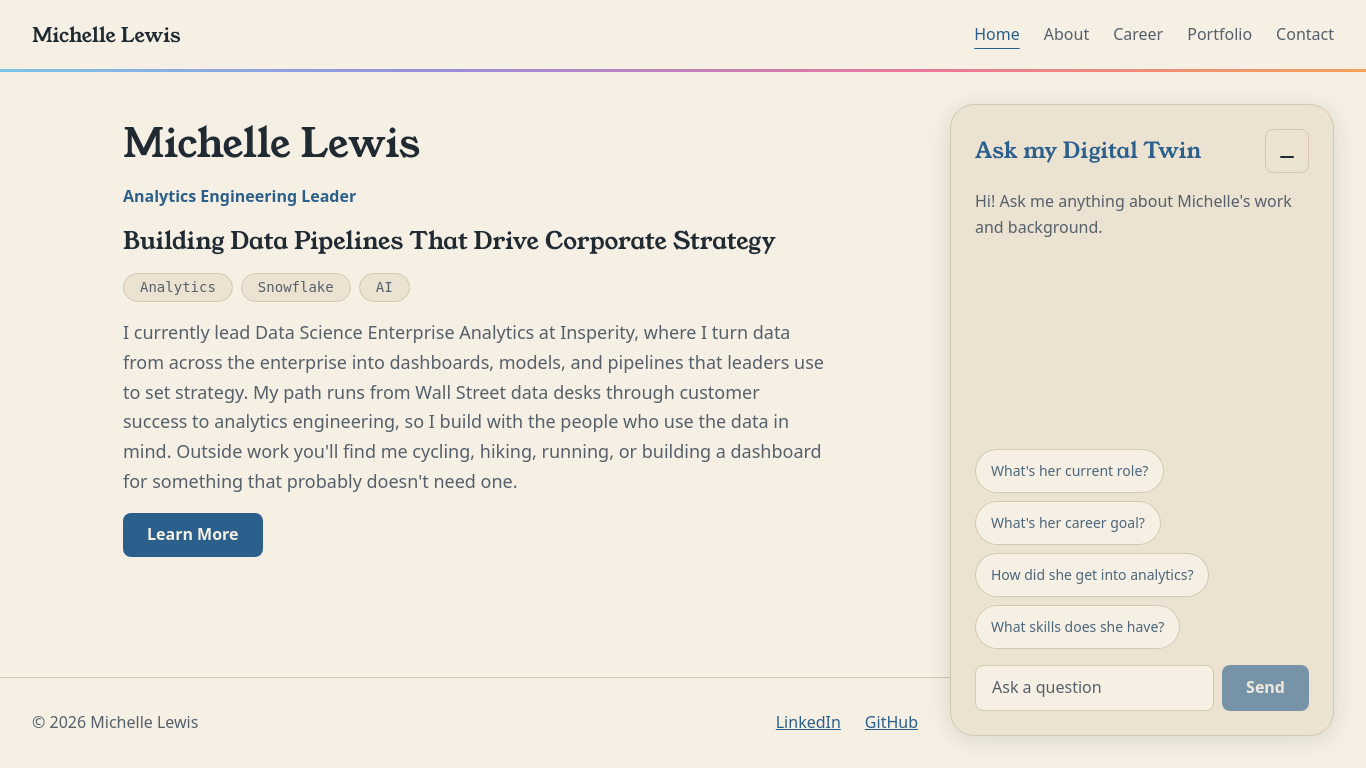
a failed click keeps text the visitor typed instead of replacing it
The image size is (1366, 768).
Type "abc" into the field named "Your question".
click(1095, 688); type("abc")  # box [975, 665, 1214, 711]
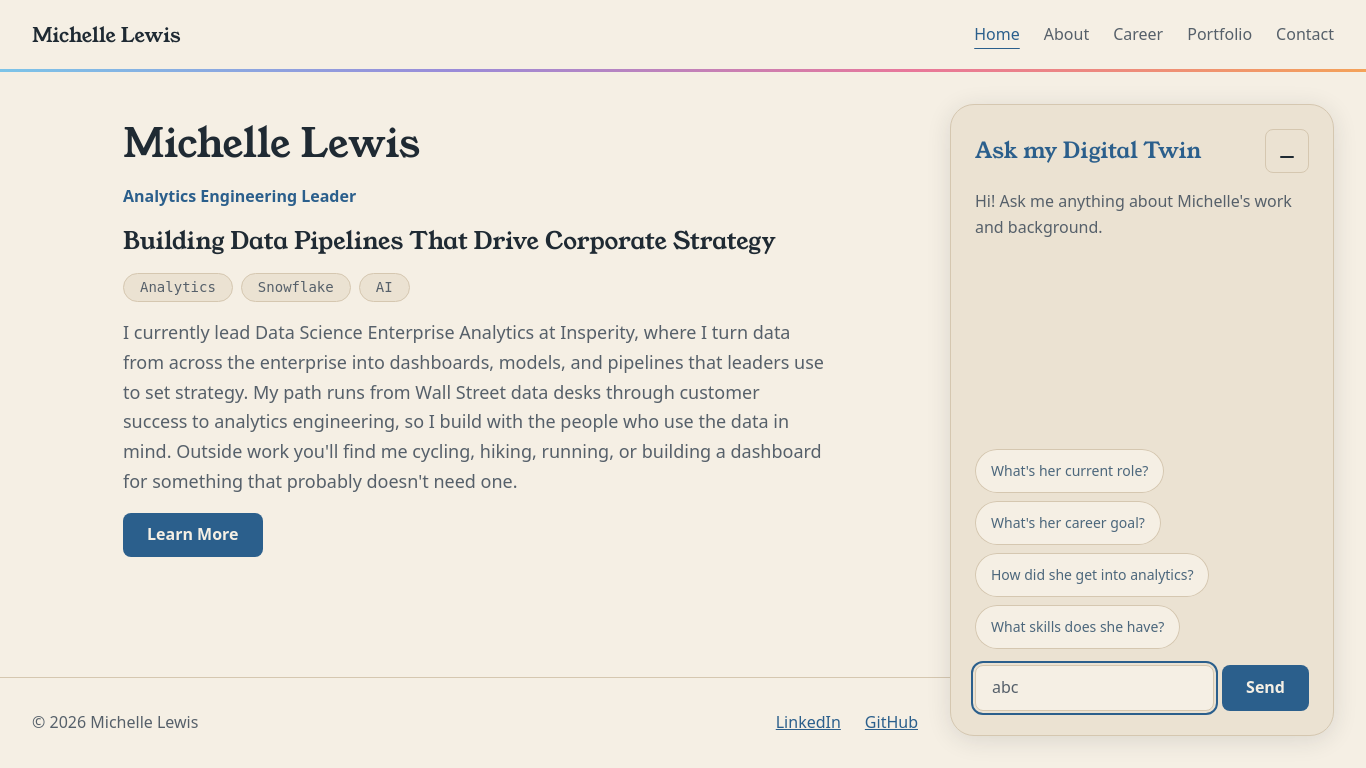
Click the button "What's her career goal?".
click(1068, 523)  # box [975, 501, 1161, 545]
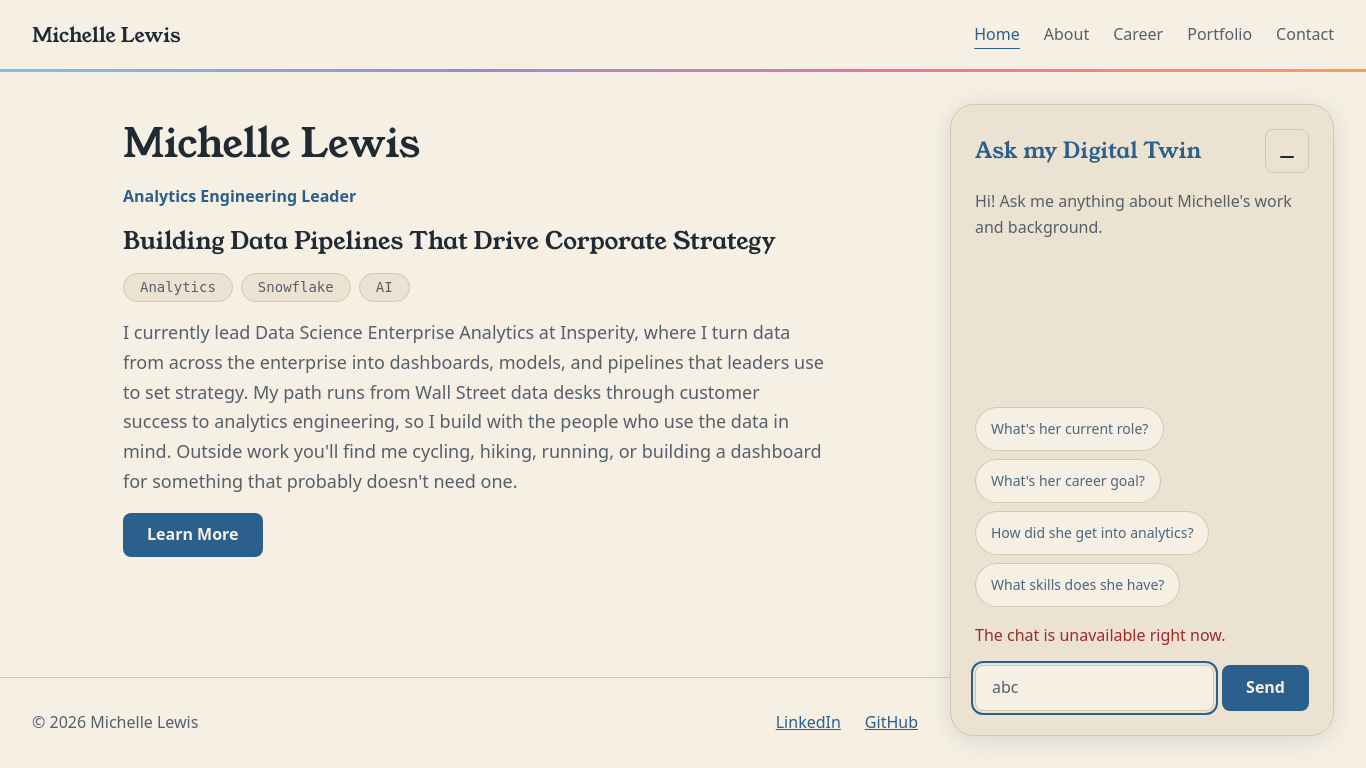
Check: the message "The chat is unavailable right now." is shown, box [975, 624, 1226, 646]
